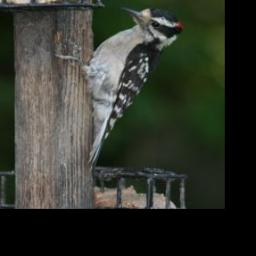Woodpecker: (55, 7, 183, 171)
